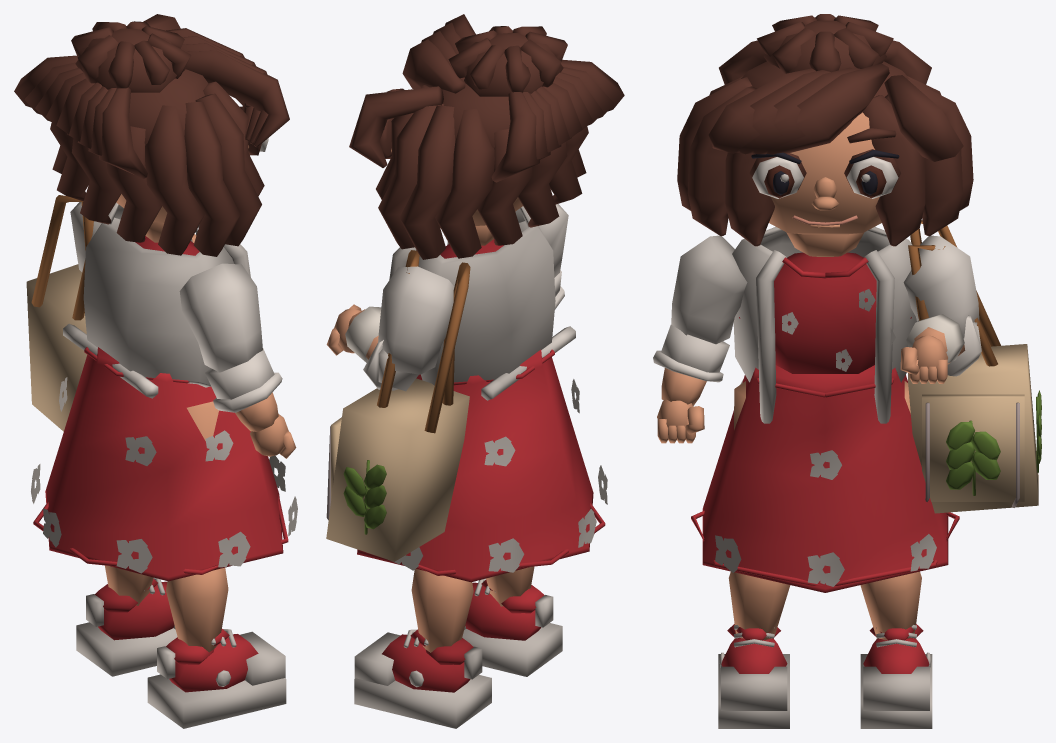
3 renders of one model, left to right at view 1: azimuth 30°, elevation 25°; view 2: azimuth 150°, elevation 25°; view 3: azimuth 270°, elevation 25°, orthographic.
Visible parts, largest first — view 1: head_pal_picketWhite, hip_pal_picketWhite, torso_pal_picketWhite, footR_pal_picketWhite, footL_pal_picketWhite, armR_pal_picketWhite, foreArmR_pal_picketWhite, shinR_pal_picketWhite, handR_pal_picketWhite, shinL_pal_picketWhite, armL_pal_picketWhite, legR_pal_picketWhite; view 2: head_pal_picketWhite, torso_pal_picketWhite, hip_pal_picketWhite, footL_pal_picketWhite, footR_pal_picketWhite, armL_pal_picketWhite, shinL_pal_picketWhite, foreArmL_pal_picketWhite, shinR_pal_picketWhite, armR_pal_picketWhite, handL_pal_picketWhite; view 3: head_pal_picketWhite, torso_pal_picketWhite, hip_pal_picketWhite, footL_pal_picketWhite, footR_pal_picketWhite, armR_pal_picketWhite, armL_pal_picketWhite, foreArmR_pal_picketWhite, shinL_pal_picketWhite, shinR_pal_picketWhite, foreArmL_pal_picketWhite, handL_pal_picketWhite (+1 smaller).
Part boxes in pixels (x1=…): head_pal_picketWhite: x1=14, y1=14, x2=289, y2=256; hip_pal_picketWhite: x1=31, y1=347, x2=297, y2=581; torso_pal_picketWhite: x1=26, y1=195, x2=250, y2=431; footR_pal_picketWhite: x1=147, y1=629, x2=286, y2=728; footL_pal_picketWhite: x1=76, y1=577, x2=177, y2=676; armR_pal_picketWhite: x1=179, y1=263, x2=262, y2=372; foreArmR_pal_picketWhite: x1=205, y1=348, x2=282, y2=431; shinR_pal_picketWhite: x1=166, y1=567, x2=228, y2=652; handR_pal_picketWhite: x1=250, y1=414, x2=296, y2=458; shinL_pal_picketWhite: x1=104, y1=565, x2=153, y2=605; armL_pal_picketWhite: x1=70, y1=202, x2=120, y2=272; legR_pal_picketWhite: x1=187, y1=401, x2=218, y2=440; head_pal_picketWhite: x1=349, y1=14, x2=624, y2=259; torso_pal_picketWhite: x1=326, y1=206, x2=575, y2=561; hip_pal_picketWhite: x1=357, y1=349, x2=607, y2=582; footL_pal_picketWhite: x1=354, y1=629, x2=491, y2=728; footR_pal_picketWhite: x1=462, y1=578, x2=562, y2=676; armL_pal_picketWhite: x1=378, y1=266, x2=454, y2=374; shinL_pal_picketWhite: x1=411, y1=569, x2=473, y2=652; foreArmL_pal_picketWhite: x1=345, y1=306, x2=418, y2=391; shinR_pal_picketWhite: x1=486, y1=566, x2=534, y2=606; armR_pal_picketWhite: x1=519, y1=204, x2=568, y2=277; handL_pal_picketWhite: x1=326, y1=304, x2=361, y2=355; head_pal_picketWhite: x1=677, y1=14, x2=973, y2=256; torso_pal_picketWhite: x1=732, y1=220, x2=1041, y2=513; hip_pal_picketWhite: x1=691, y1=365, x2=959, y2=592; footL_pal_picketWhite: x1=860, y1=624, x2=932, y2=728; footR_pal_picketWhite: x1=718, y1=624, x2=789, y2=728; armR_pal_picketWhite: x1=671, y1=235, x2=747, y2=344; armL_pal_picketWhite: x1=903, y1=235, x2=979, y2=338; foreArmR_pal_picketWhite: x1=653, y1=324, x2=729, y2=406; shinL_pal_picketWhite: x1=860, y1=571, x2=921, y2=640; shinR_pal_picketWhite: x1=728, y1=572, x2=790, y2=640; foreArmL_pal_picketWhite: x1=906, y1=314, x2=981, y2=376; handL_pal_picketWhite: x1=900, y1=335, x2=947, y2=383.
Bounding box in the file's own units: 0.5176 × 1.42 × 0.7596.
